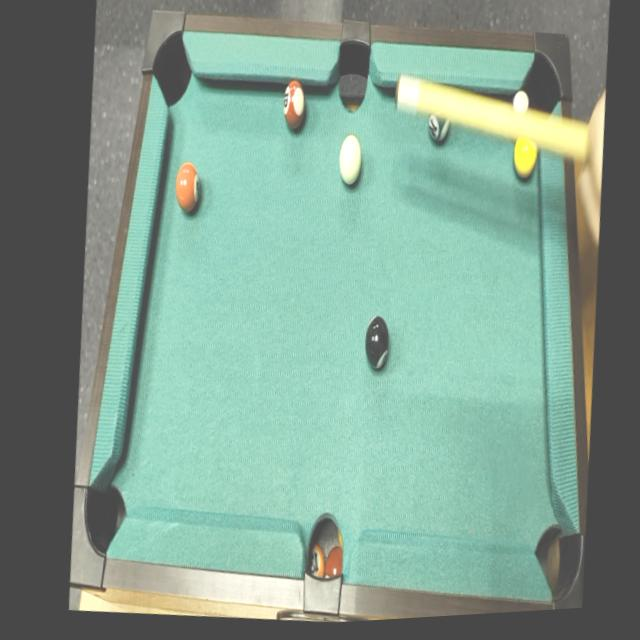cue ball: (331, 127, 367, 194)
other: (358, 310, 394, 373), (507, 129, 544, 186), (171, 158, 205, 219), (276, 75, 312, 132), (422, 103, 456, 150)
